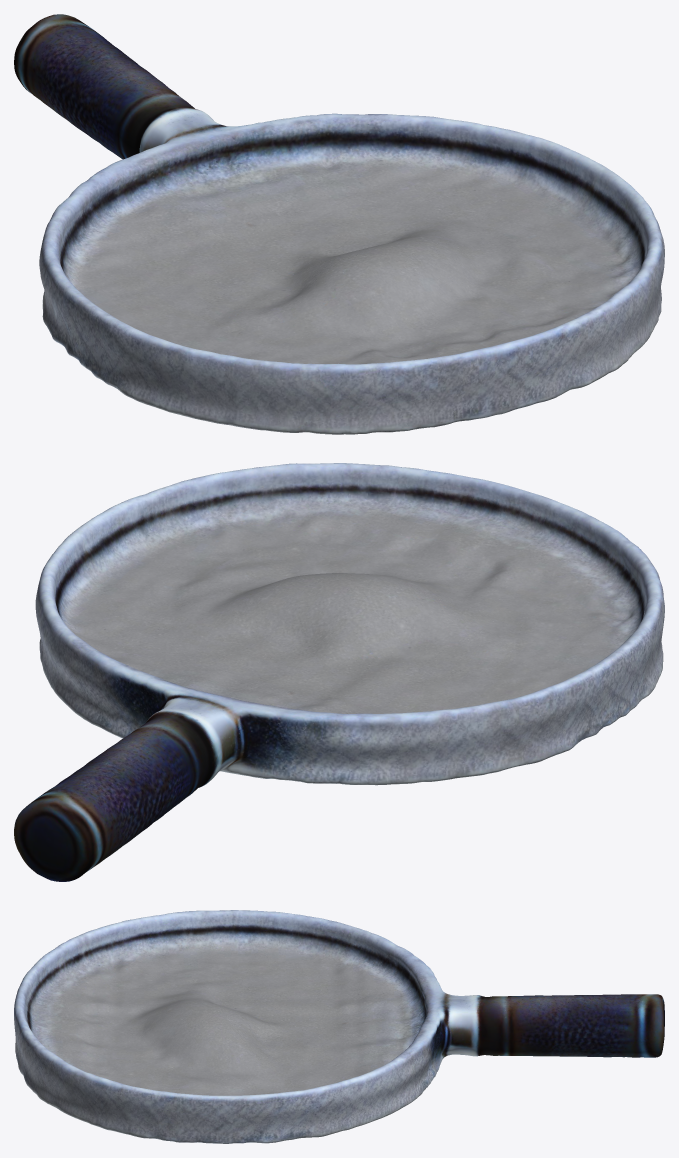
File: lens.glb
3 views of the same model, one above another, from view 1: azimuth 30°, elevation 25°; view 2: azimuth 150°, elevation 25°; view 3: azimuth 270°, elevation 25° (orthographic). The views are drawn at different scales.
Visible parts, largest first — view 1: high_poly; view 2: high_poly; view 3: high_poly.
Boxes of the visible parts, left/top/right/bottom form: high_poly: left=14, top=14, right=664, bottom=434; high_poly: left=14, top=463, right=664, bottom=881; high_poly: left=14, top=910, right=664, bottom=1143.
Bounding box in the file's own units: 0.6897 × 0.0967 × 1.
1 material, 1 textured.
